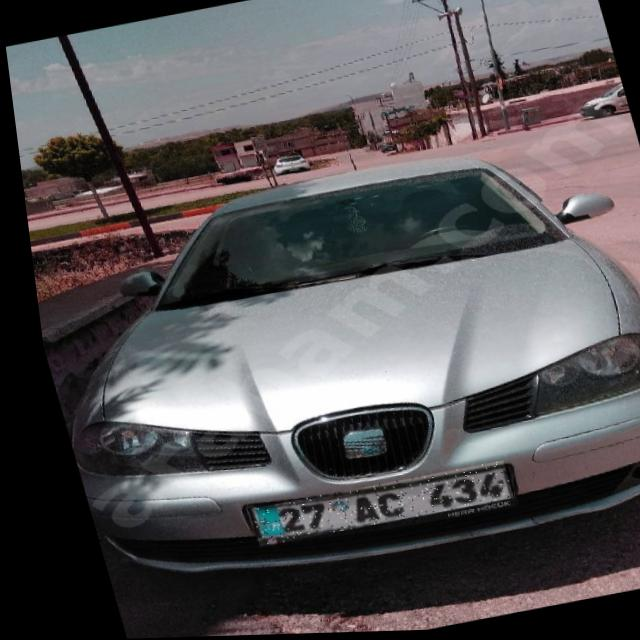license_plate: (232, 464, 504, 548)
